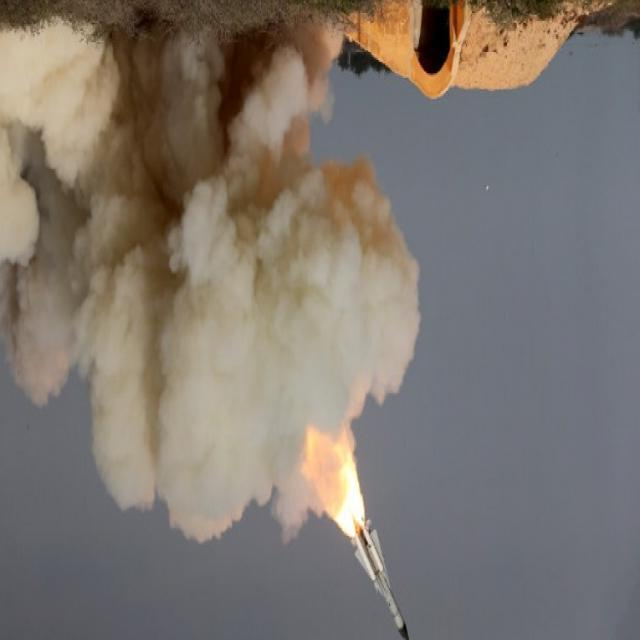missile: (330, 520, 423, 640)
